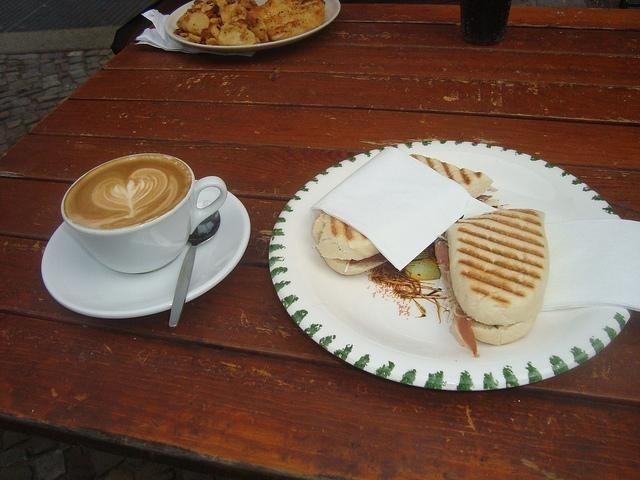cup-handle: (61, 152, 229, 275)
